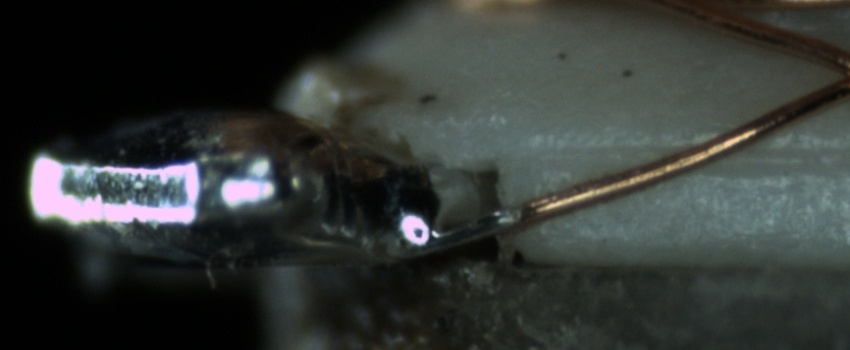CL: (805, 40, 850, 106)
DL: (531, 120, 845, 187)
TS: (407, 206, 523, 257)
